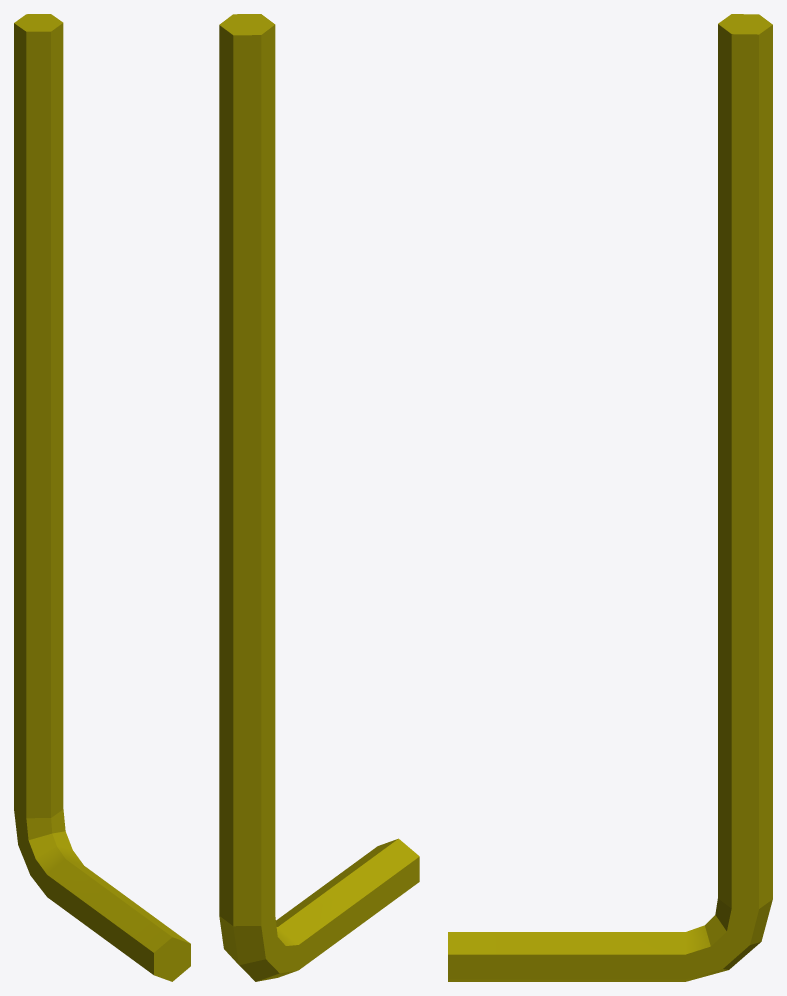
The model's file is Small_AllenKey.fbx.
3 renders of one model, left to right at view 1: azimuth 30°, elevation 25°; view 2: azimuth 150°, elevation 25°; view 3: azimuth 270°, elevation 25°, orthographic. The views are drawn at different scales.
Visible parts, largest first — view 1: Allen_Key; view 2: Allen_Key; view 3: Allen_Key.
Boxes of the visible parts, box(x1,y1,x2,y2) form: Allen_Key: box(14, 14, 190, 981); Allen_Key: box(219, 14, 419, 981); Allen_Key: box(448, 14, 772, 981).
Size of the model in its own units: 0.00559 by 0.124 by 0.0381.
